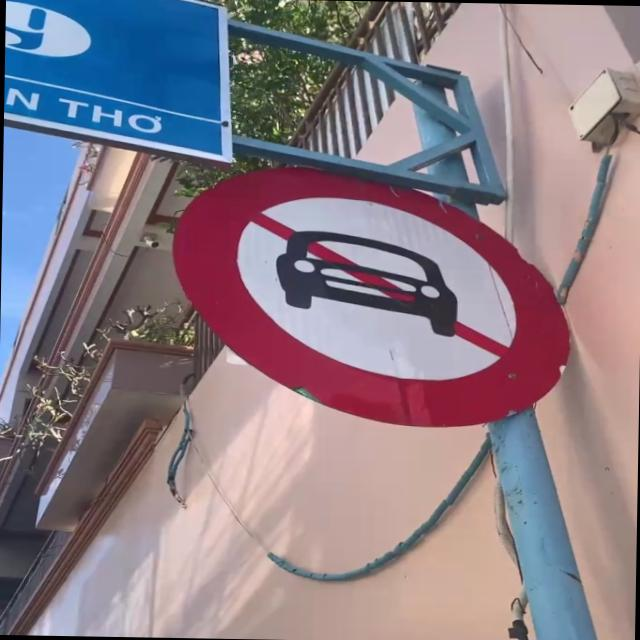Cam_O_To: (174, 157, 579, 426)
